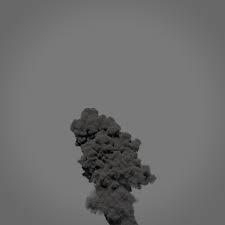smoke: (64, 106, 158, 225)
